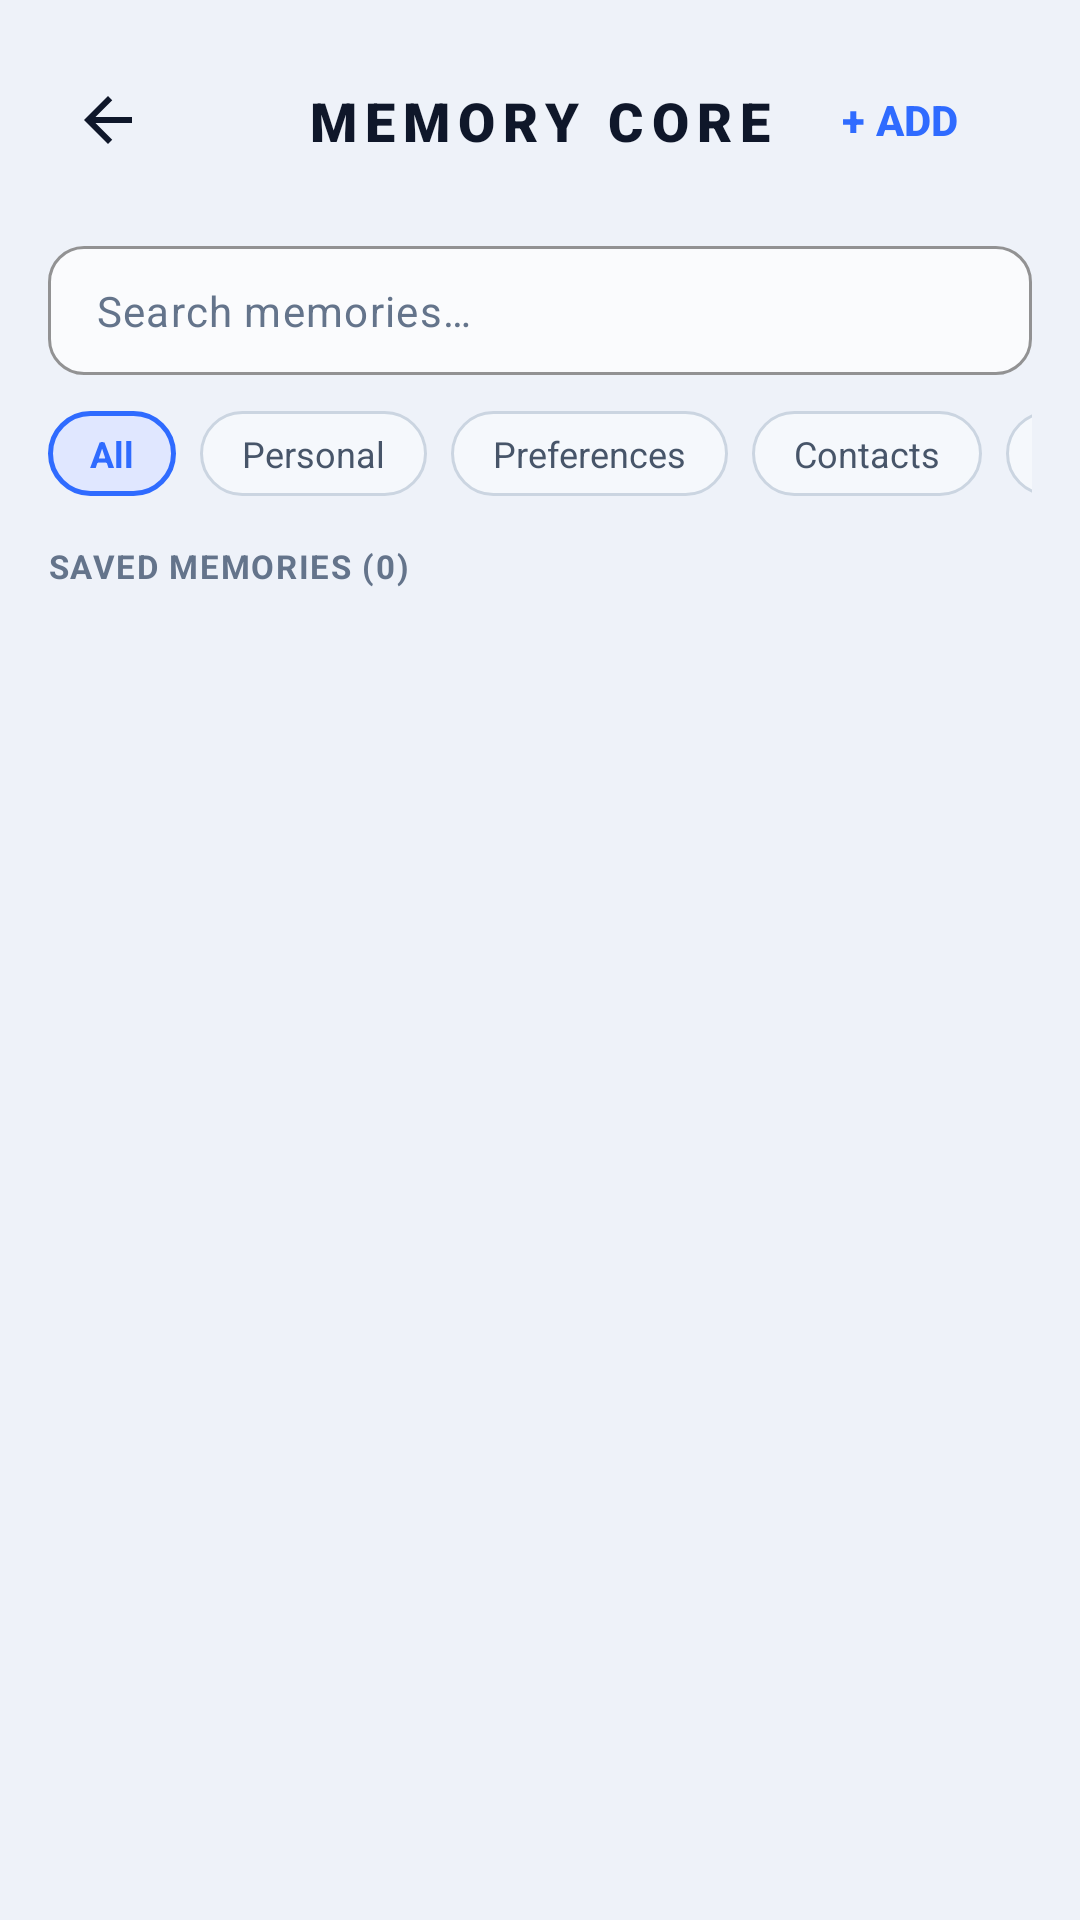

Icon click points for this 1080 × 1920 phone screenshot, format [x,y]:
Back: [108,120]
